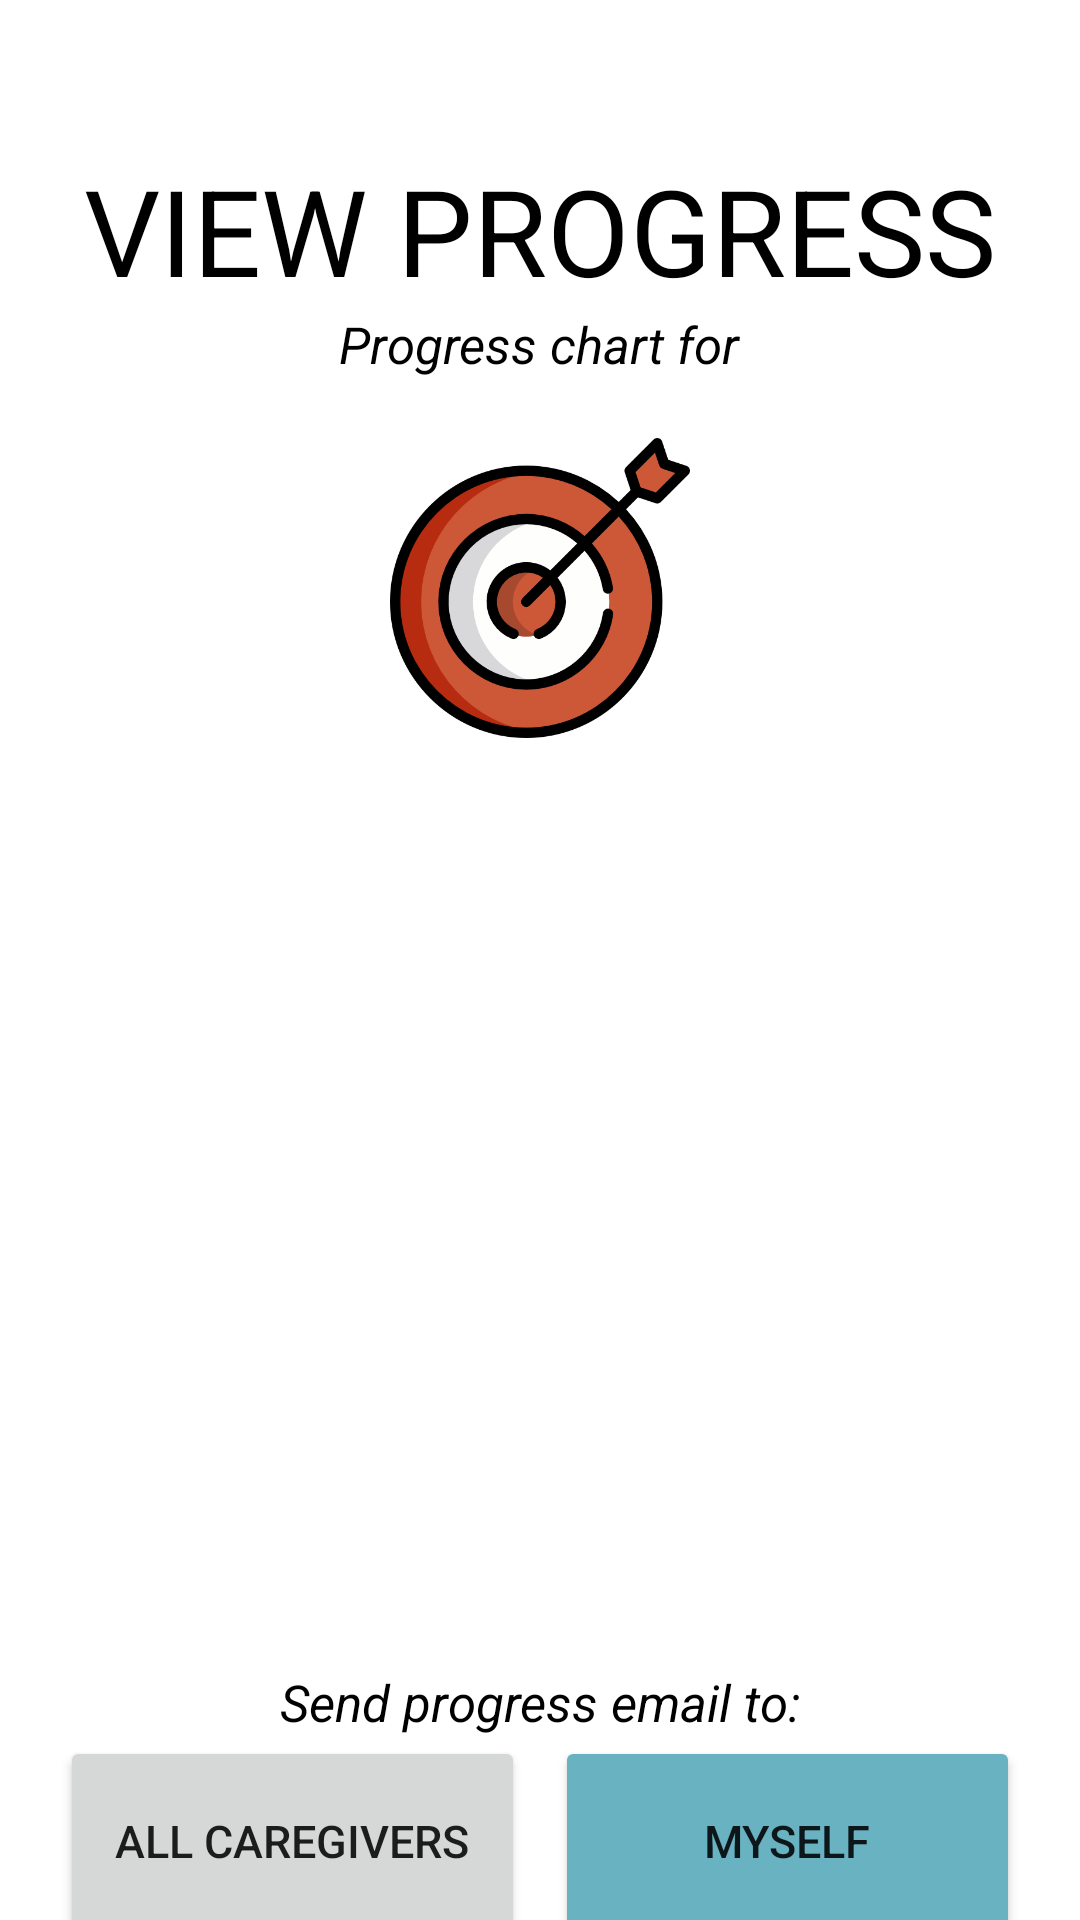

Named icons in this screenshot (1080×1920) and their bounding boxes, Rect(x1, y1, x2, y2):
target: Rect(390, 438, 690, 738)
